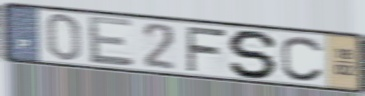0: (44, 12, 83, 63)
2: (141, 22, 177, 72)
C: (279, 34, 326, 83)
E: (86, 14, 137, 68)
F: (183, 24, 229, 73)
S: (226, 28, 282, 80)
